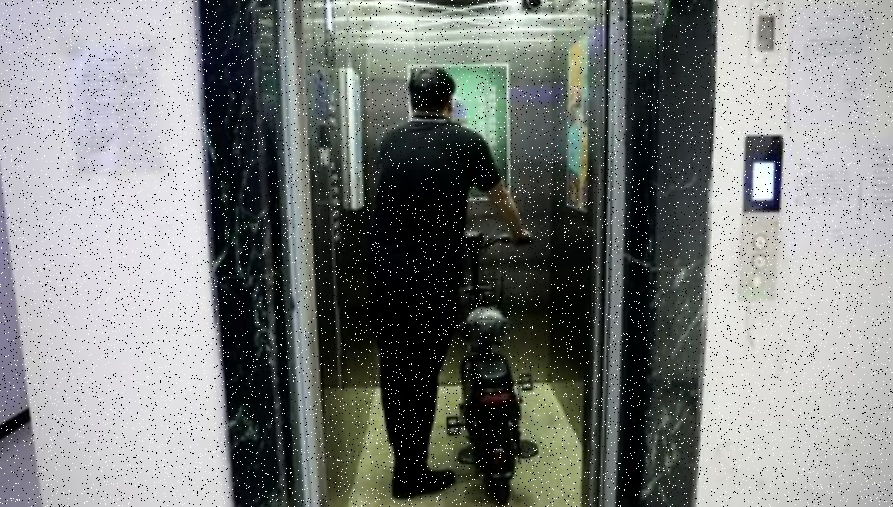ebike: (432, 231, 541, 504)
person: (371, 61, 512, 494)
